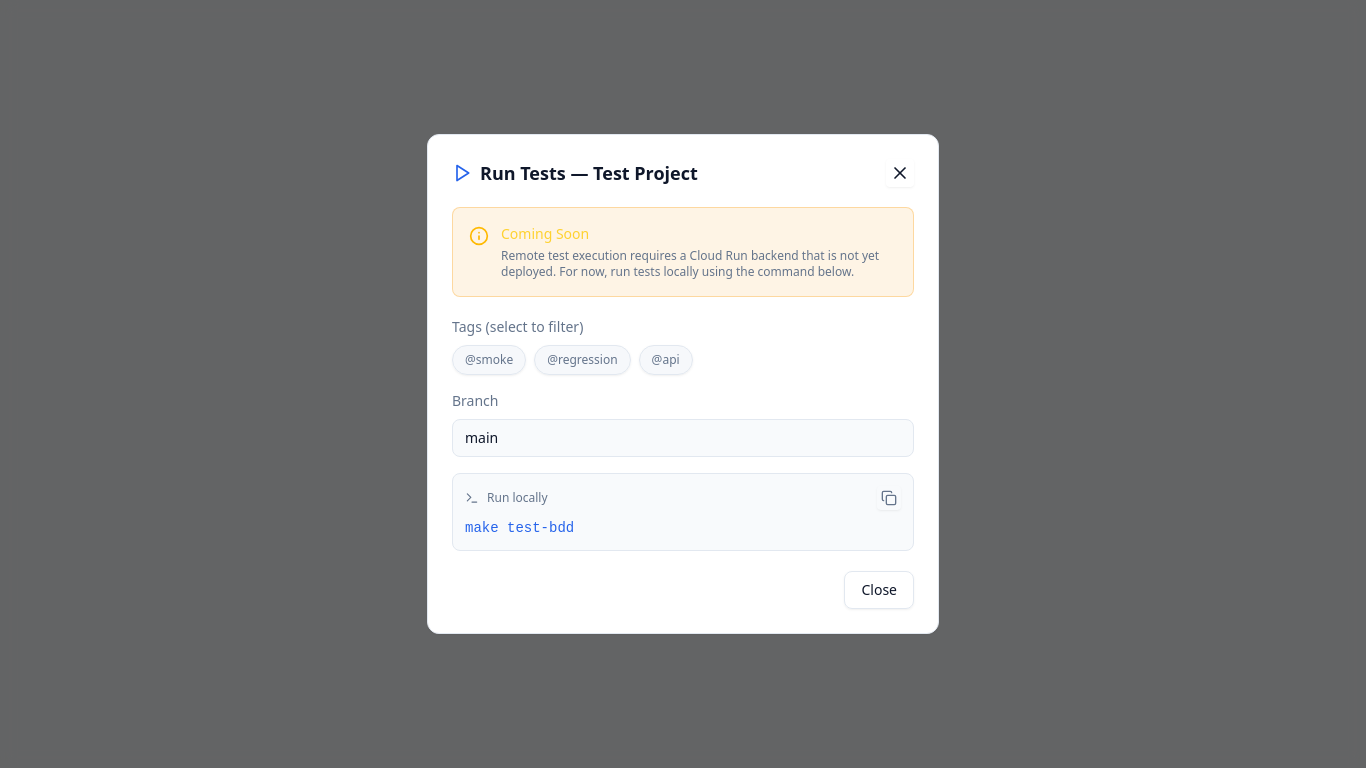
RunTestsDialog › combines tags and custom branch in command preview
Select a tag
Step 1. Click the button "@smoke" → (489, 360), box [452,345,526,375]
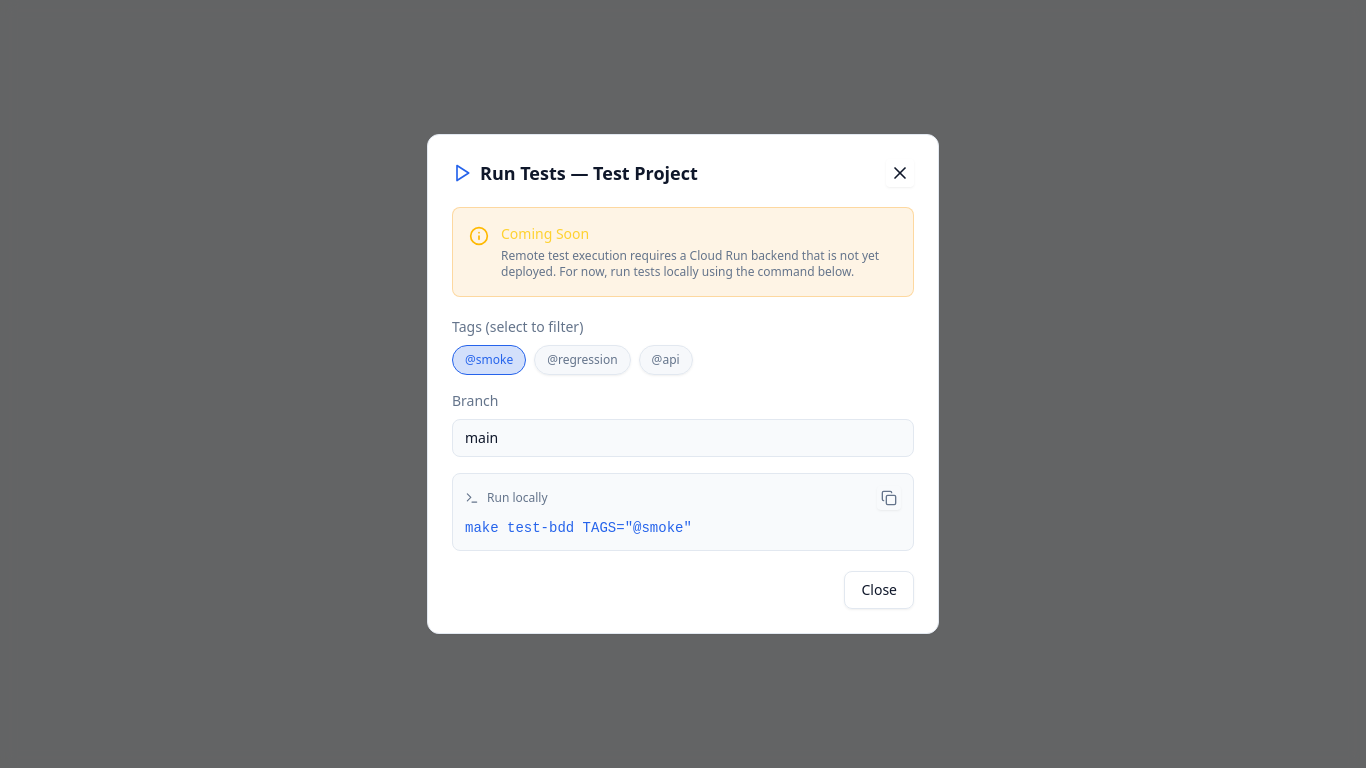
Change branch
Step 2. Type "develop" into the field showing "main" → (683, 438), box [452,419,914,457]
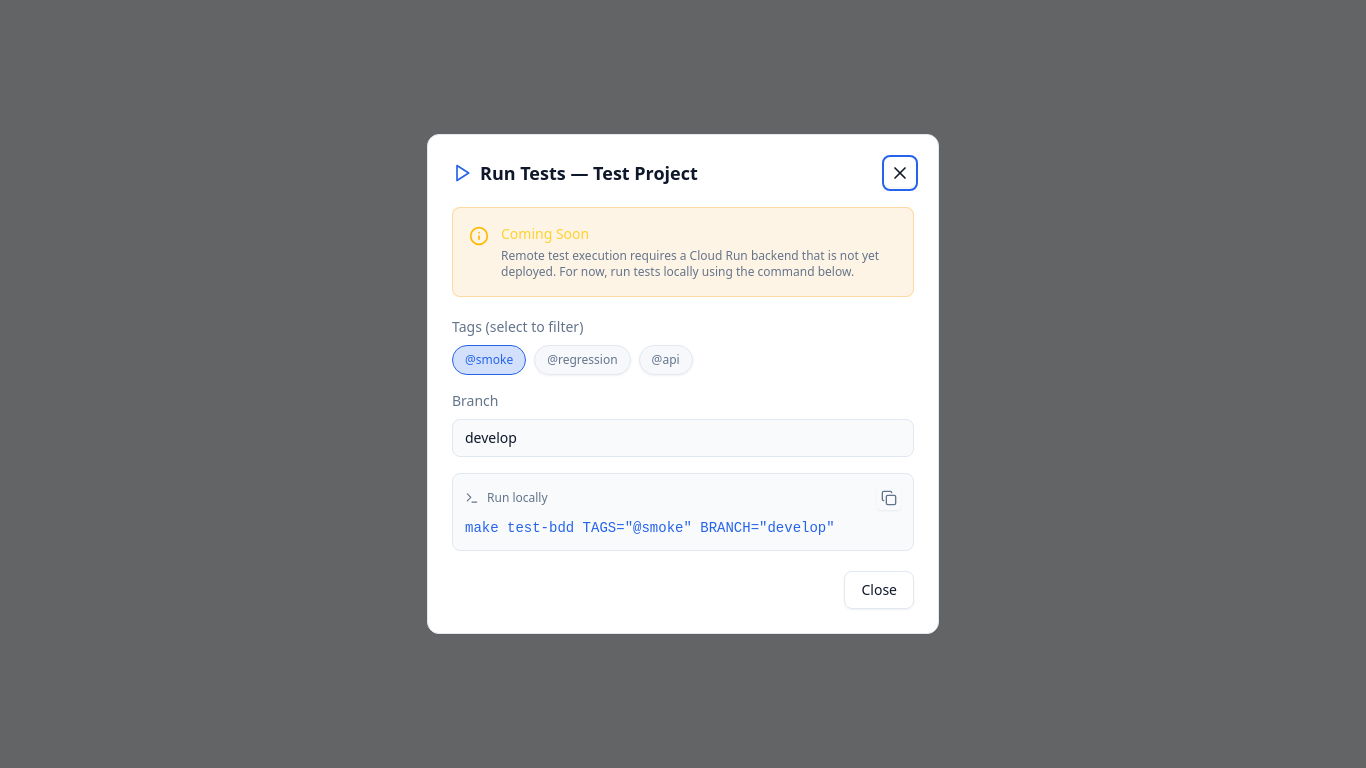
Now the text "make test-bdd TAGS=\"@smoke\" BRANCH=\"develop\"" is shown, box [465,520,835,536]
